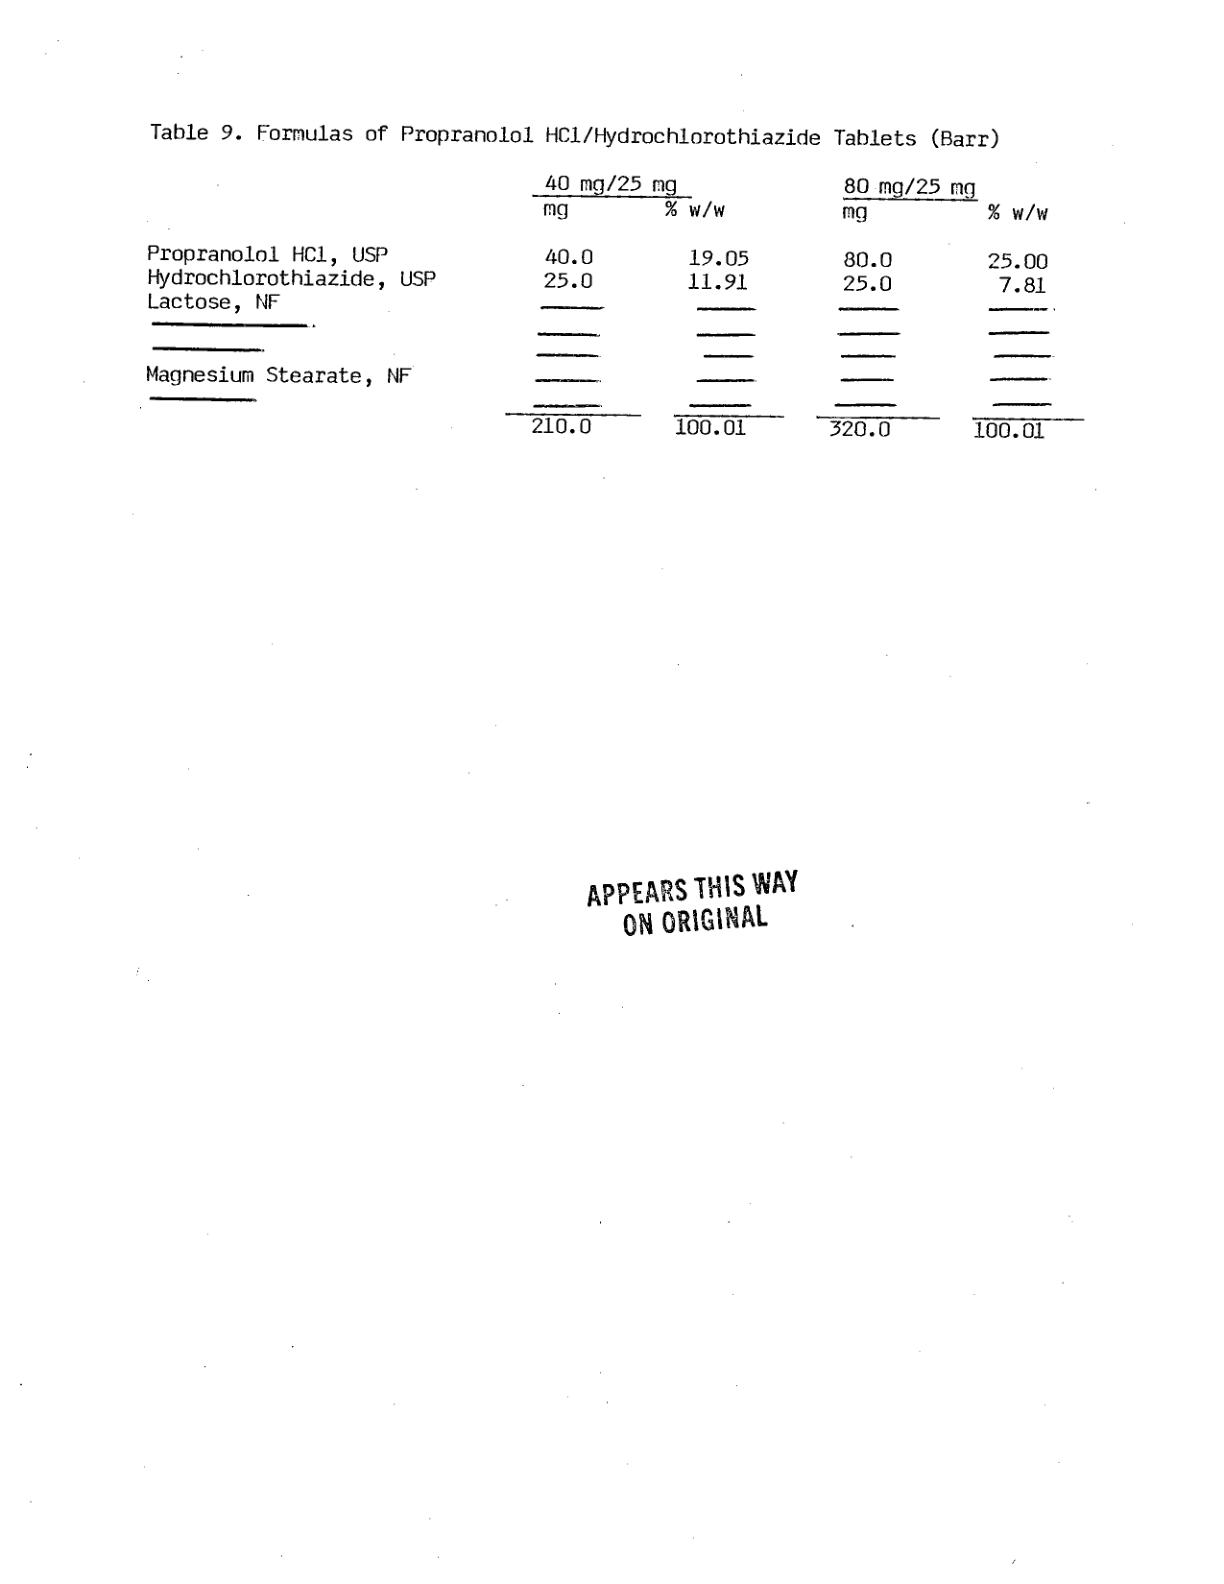nolines: (141, 170, 1086, 444)
